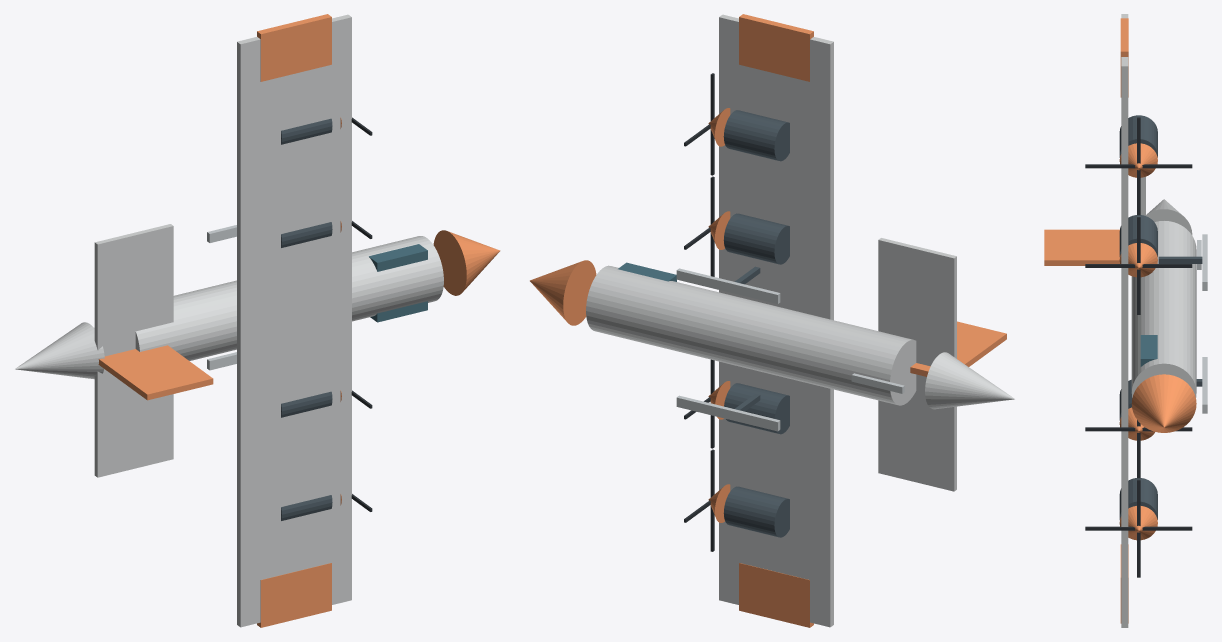
File: amoh_polar_transport_v18.glb
3 renders of one model, left to right at view 1: azimuth 30°, elevation 25°; view 2: azimuth 150°, elevation 25°; view 3: azimuth 270°, elevation 25°, orthographic. The views are drawn at different scales.
Visible parts, largest first — view 1: part_04, part_07, part_00, part_08, part_05, part_06, part_02, part_01, part_03, part_24, part_14, part_19 (+1 smaller); view 2: part_04, part_00, part_07, part_05, part_06, part_02, part_24, part_09, part_19, part_01, part_14, part_08 (+2 smaller); view 3: part_00, part_04, part_01, part_08, part_24, part_19, part_09, part_25, part_10, part_20, part_02, part_28 (+12 smaller).
Part boxes in pixels (x1,y1,x2,y2): part_04: [237, 14, 351, 627]; part_07: [94, 224, 173, 477]; part_00: [135, 236, 443, 360]; part_08: [98, 345, 213, 400]; part_05: [257, 14, 331, 81]; part_06: [257, 563, 331, 627]; part_02: [15, 322, 104, 379]; part_01: [433, 230, 500, 295]; part_03: [369, 244, 427, 322]; part_24: [281, 118, 332, 144]; part_14: [281, 391, 332, 417]; part_19: [281, 222, 332, 247]; part_04: [719, 14, 833, 627]; part_00: [586, 265, 916, 405]; part_07: [878, 238, 956, 491]; part_05: [739, 14, 813, 81]; part_06: [739, 563, 813, 627]; part_02: [925, 352, 1014, 409]; part_24: [723, 110, 789, 161]; part_09: [723, 486, 789, 537]; part_19: [723, 213, 789, 264]; part_01: [530, 260, 596, 325]; part_14: [724, 383, 789, 434]; part_08: [910, 321, 1006, 376]; part_00: [1131, 221, 1196, 397]; part_04: [1121, 14, 1128, 627]; part_01: [1131, 374, 1196, 432]; part_08: [1044, 229, 1119, 265]; part_24: [1119, 115, 1157, 157]; part_19: [1119, 215, 1157, 256]; part_09: [1119, 478, 1157, 519]; part_25: [1119, 143, 1157, 177]; part_10: [1119, 506, 1157, 540]; part_20: [1119, 243, 1157, 277]; part_02: [1146, 199, 1192, 235]; part_28: [1085, 164, 1192, 168].
Size of the model in its own units: 19.2 by 22.4 by 5.79.
